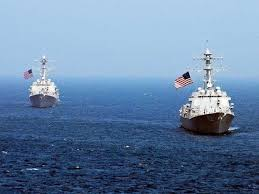tau_muctieu: (178, 47, 237, 135), (26, 57, 62, 106)
